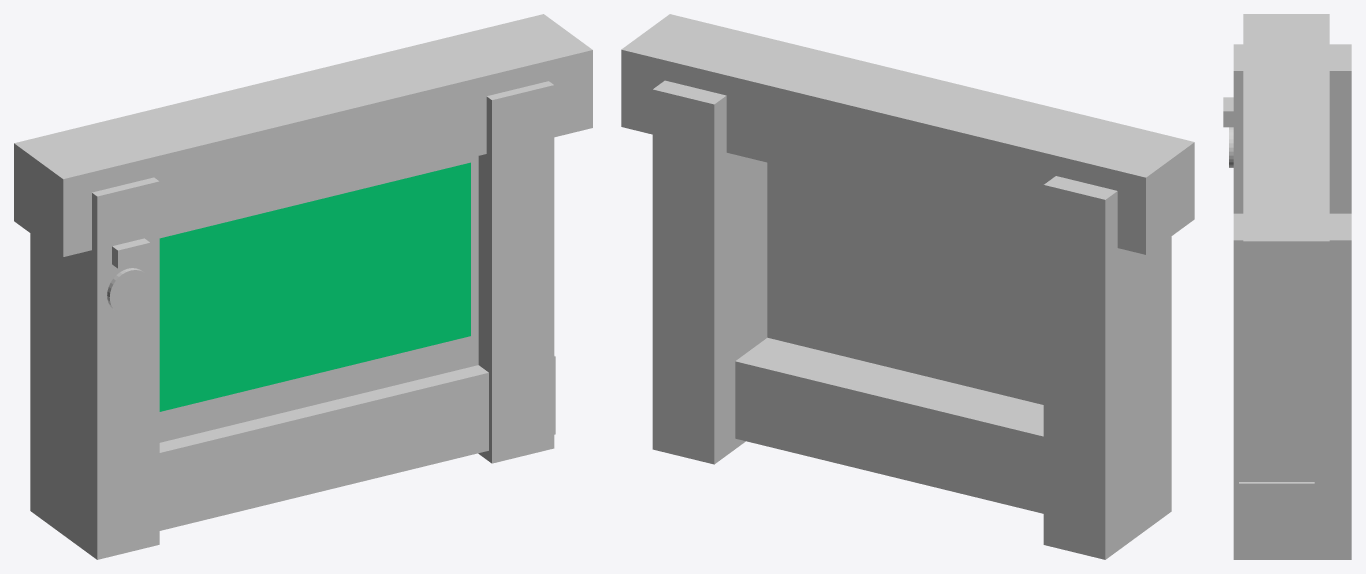
File: Scren.fbx
3 views of the same model, side by side, from view 1: azimuth 30°, elevation 25°; view 2: azimuth 150°, elevation 25°; view 3: azimuth 270°, elevation 25° (orthographic). The views are drawn at different scales.
Parts seen in each view (by area): view 1: 平面; view 2: 平面; view 3: 平面.
Boxes of the visible parts, x1=… form: 平面: x1=14, y1=14, x2=592, y2=559; 平面: x1=621, y1=14, x2=1194, y2=559; 平面: x1=1223, y1=14, x2=1351, y2=559.
Size of the model in its own units: 2209 by 1530 by 526.
